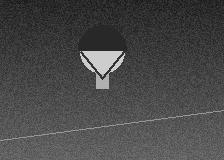helmet: (78, 25, 126, 78)
